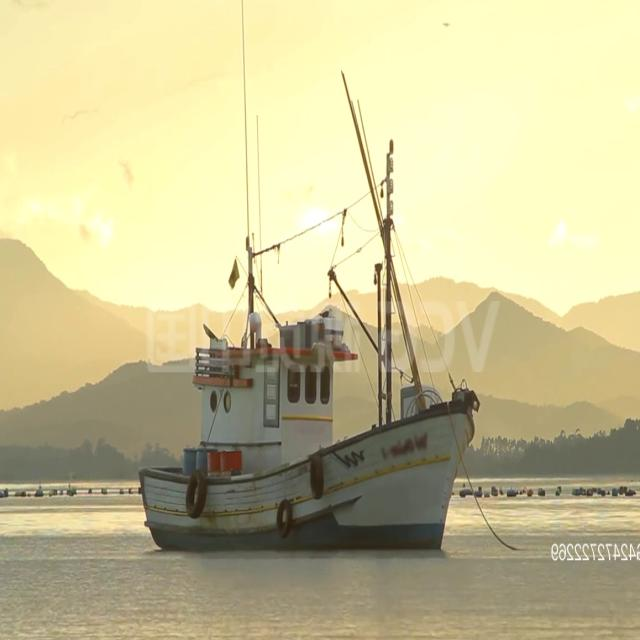fishing boat: (137, 150, 486, 550)
